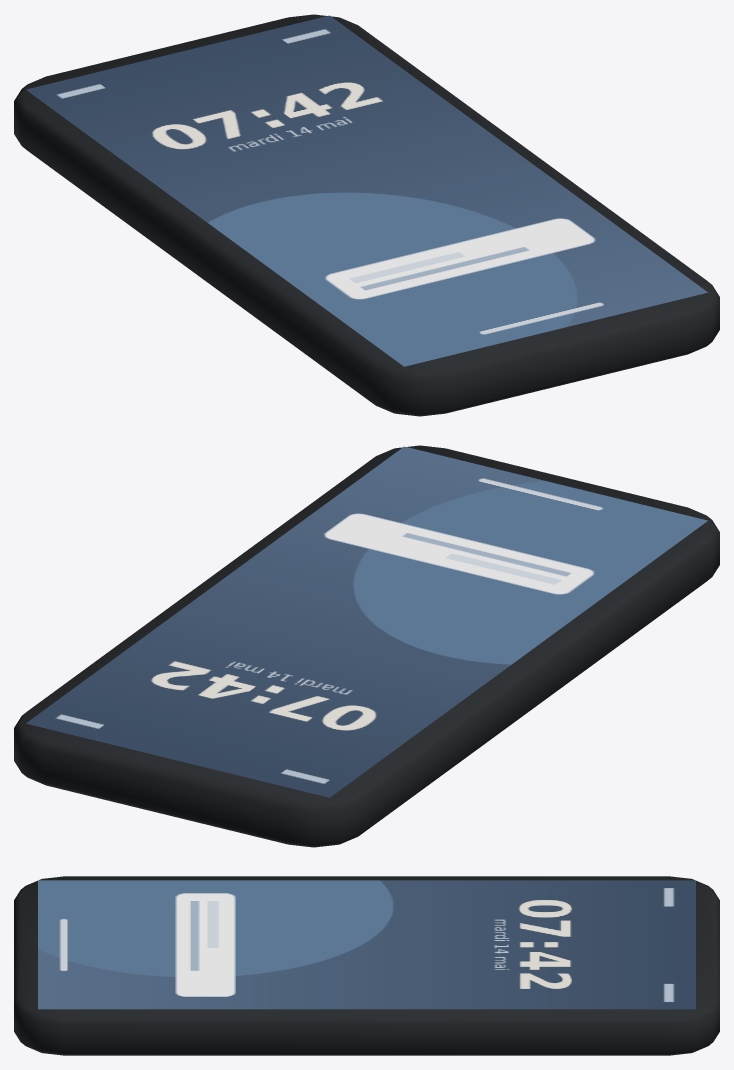
The model's file is telephone.glb.
The picture shows the model from 3 angles, top to bottom: view 1: azimuth 30°, elevation 25°; view 2: azimuth 150°, elevation 25°; view 3: azimuth 270°, elevation 25°; orthographic projection. The views are drawn at different scales.
Parts seen in each view (by area): view 1: TEL_Ecran, TEL_Noir; view 2: TEL_Ecran, TEL_Noir; view 3: TEL_Ecran, TEL_Noir.
Part boxes in pixels (x1,y1,x2,y2): TEL_Ecran: (26, 15, 707, 366); TEL_Noir: (14, 14, 719, 416); TEL_Ecran: (26, 446, 707, 797); TEL_Noir: (14, 445, 719, 847); TEL_Ecran: (38, 880, 695, 1009); TEL_Noir: (14, 876, 719, 1055).
Size of the model in its own units: 0.072 by 0.0094 by 0.148.
Materials: 2 (1 with a texture image).
